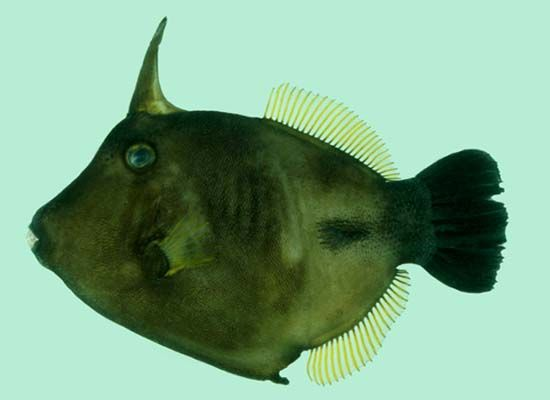fish: (28, 17, 509, 384)
